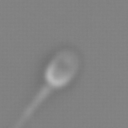normal: (11, 86, 49, 128)
